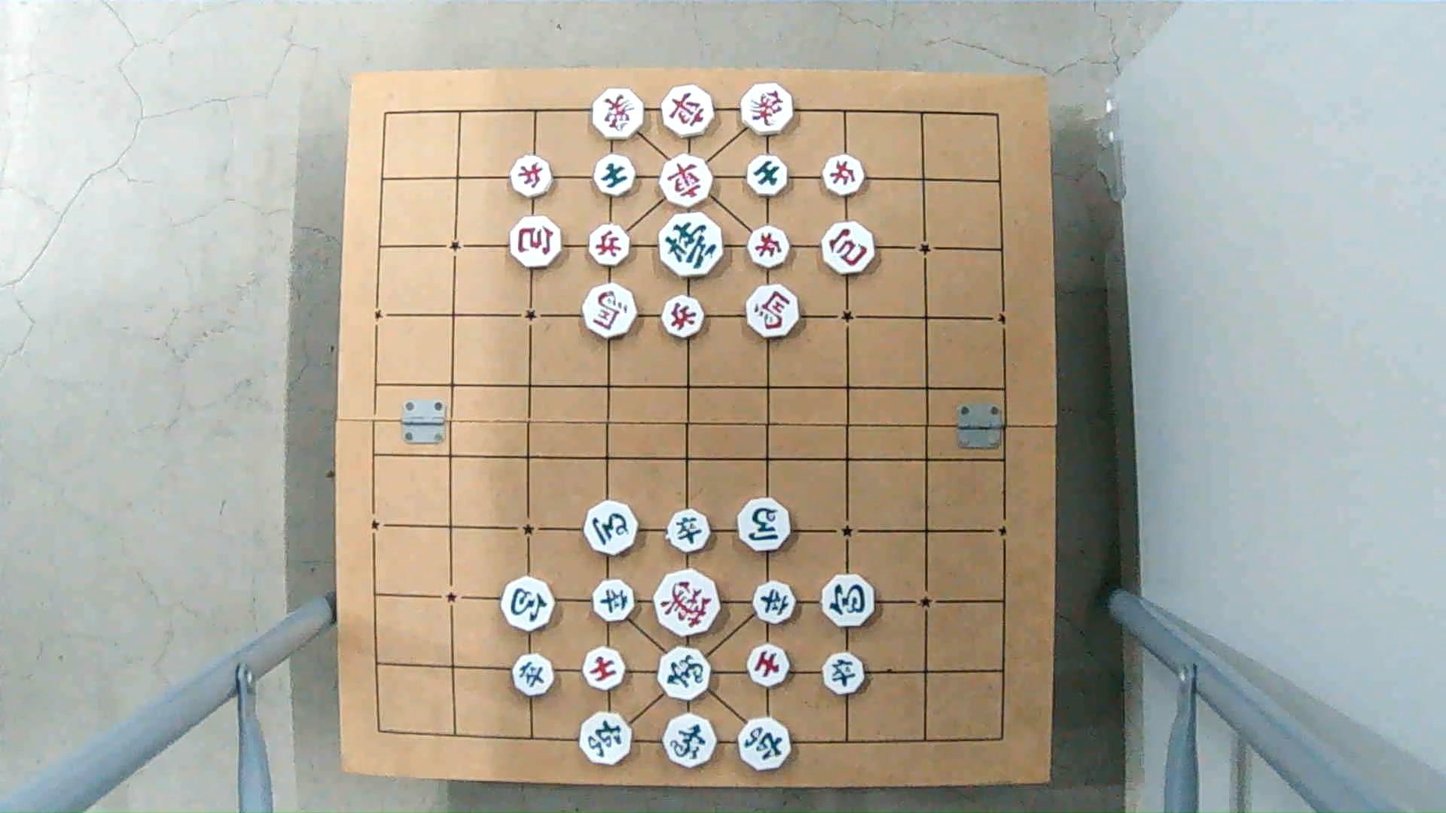cha_green: (577, 714, 635, 763), (737, 718, 795, 767)
cha_red: (660, 87, 718, 136), (656, 158, 715, 206)
jol_green: (590, 578, 640, 622), (751, 582, 800, 626), (662, 511, 713, 551), (512, 653, 557, 698), (819, 656, 868, 694)
jol_red: (746, 224, 790, 268), (506, 157, 555, 196), (587, 225, 633, 263), (821, 157, 869, 193), (663, 297, 703, 337)
ma_green: (582, 504, 643, 551), (734, 502, 794, 549)
ma_red: (742, 287, 803, 336), (581, 287, 640, 335)
po_green: (817, 575, 878, 626), (499, 577, 557, 626)
po_red: (819, 225, 879, 273), (508, 219, 565, 265)
sa_green: (591, 154, 638, 193), (743, 157, 791, 195)
sa_red: (747, 645, 797, 684), (581, 649, 629, 688)
sang_green: (656, 650, 716, 699), (658, 716, 716, 765)
sang_red: (589, 88, 648, 136), (738, 87, 797, 133)
wang_green: (658, 215, 728, 274)
wang_red: (652, 568, 725, 635)
